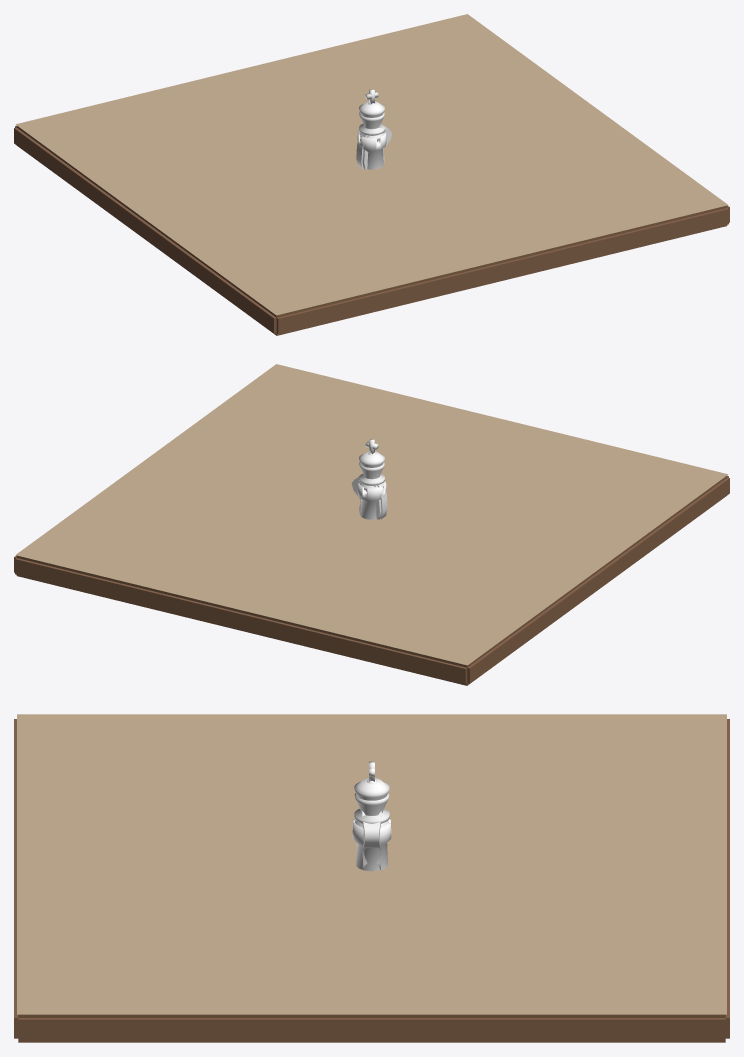
Rendered from scacchi.glb.
3 renders of one model, top to bottom at view 1: azimuth 30°, elevation 25°; view 2: azimuth 150°, elevation 25°; view 3: azimuth 270°, elevation 25°, orthographic. The views are drawn at different scales.
Parts seen in each view (by area): view 1: scacchiera, torre, re; view 2: scacchiera, torre, re; view 3: scacchiera, torre, re, cavallo, donna.
Boxes of the visible parts, x1,y1,x2,y2 form: scacchiera: (14,14,729,335); torre: (357,131,386,169); re: (359,89,384,135); scacchiera: (14,364,729,685); torre: (357,481,386,519); re: (359,439,384,485); scacchiera: (14,714,729,1042); torre: (352,818,391,871); re: (354,761,389,823); cavallo: (362,811,381,869); donna: (354,779,389,827).
Size of the model in its own units: 0.5 by 0.1003 by 0.5.
